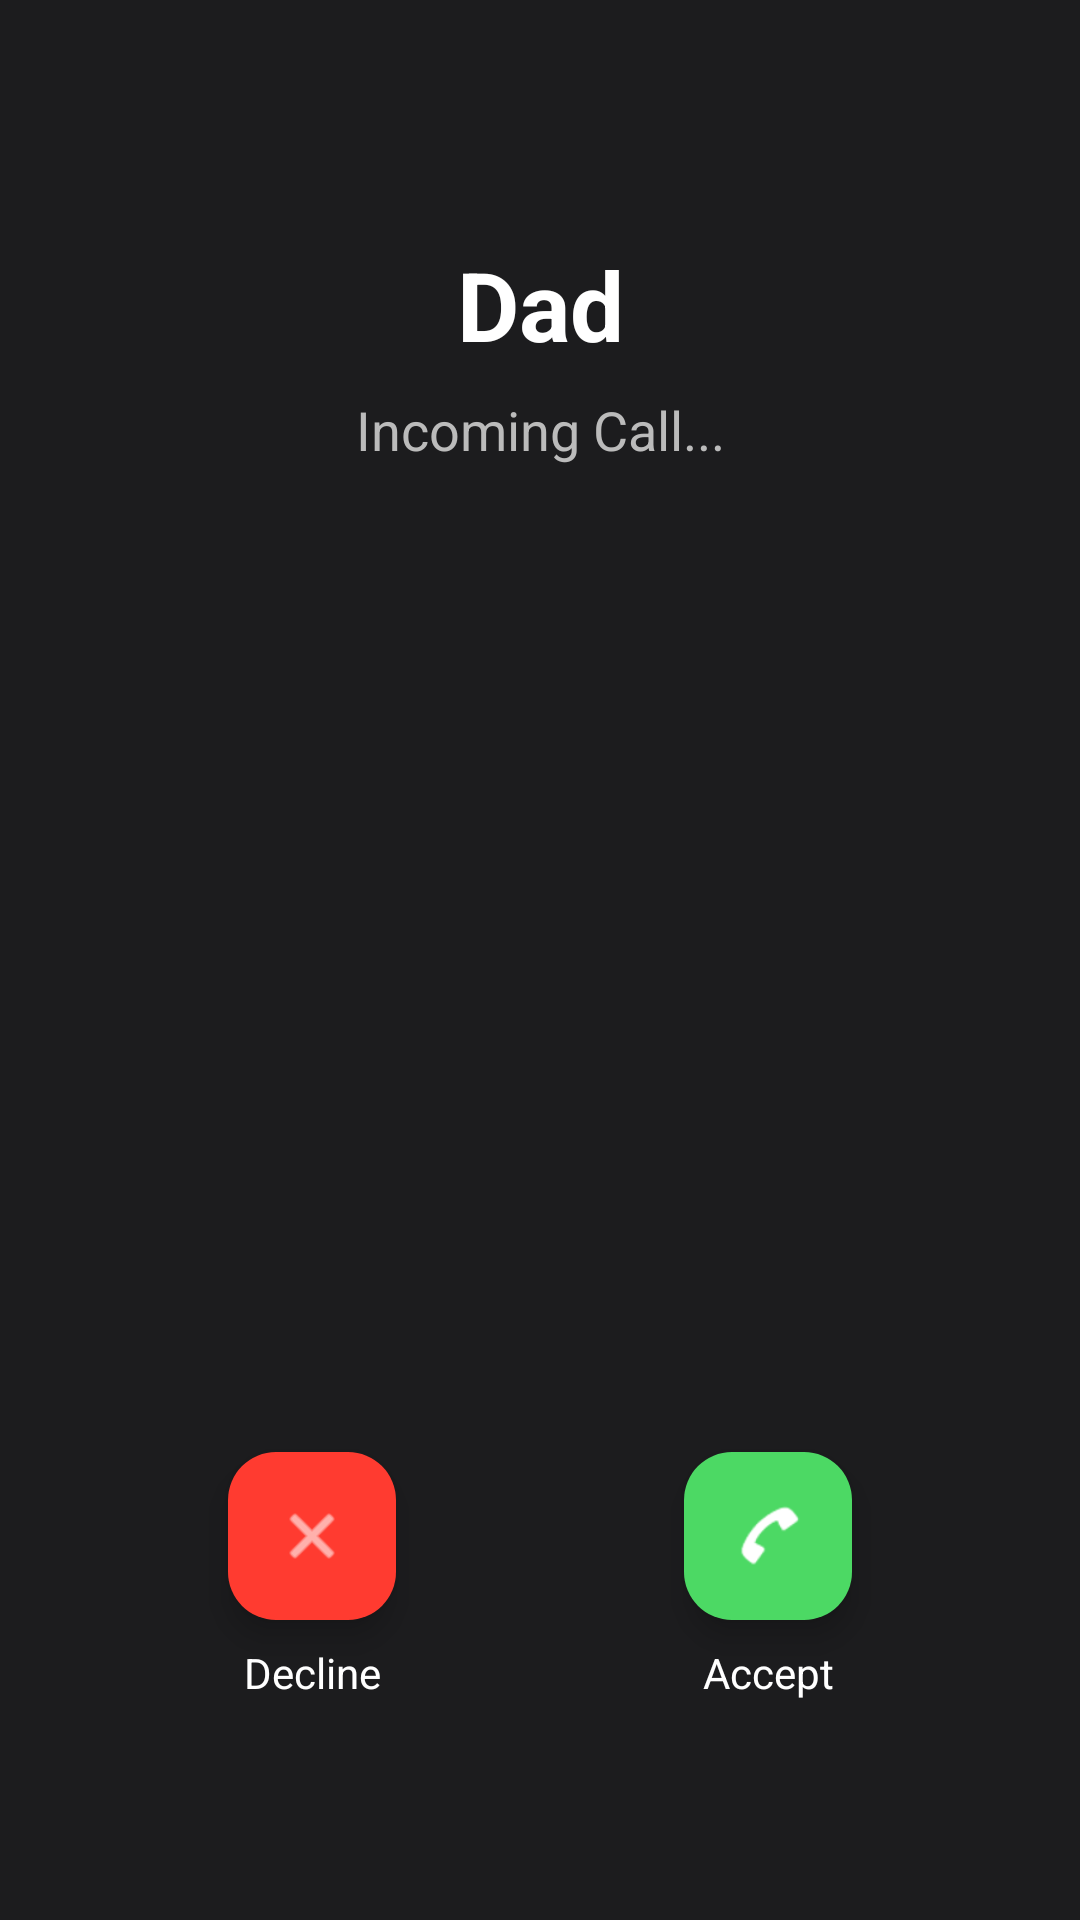

Where to tap for icons on this 1080x1920 app screen, as (x=x, y=y):
close clear cancel: (x=312, y=1536)
sym action call: (x=768, y=1536)
